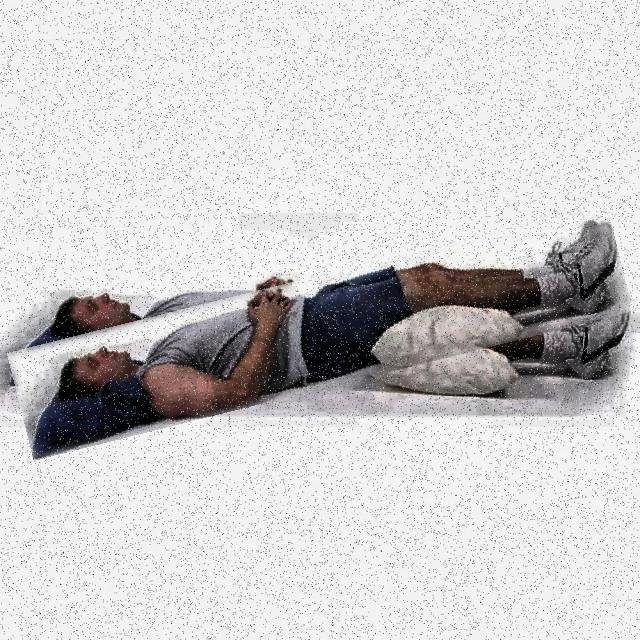Supine: (32, 223, 616, 458)
